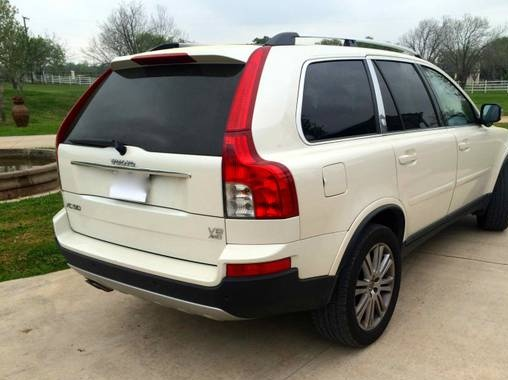volvo: (28, 33, 508, 352)
